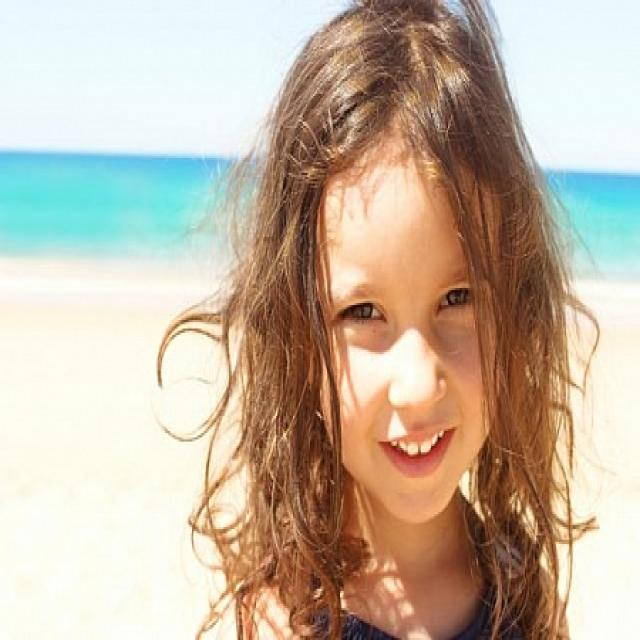Eyes: (322, 279, 479, 332)
